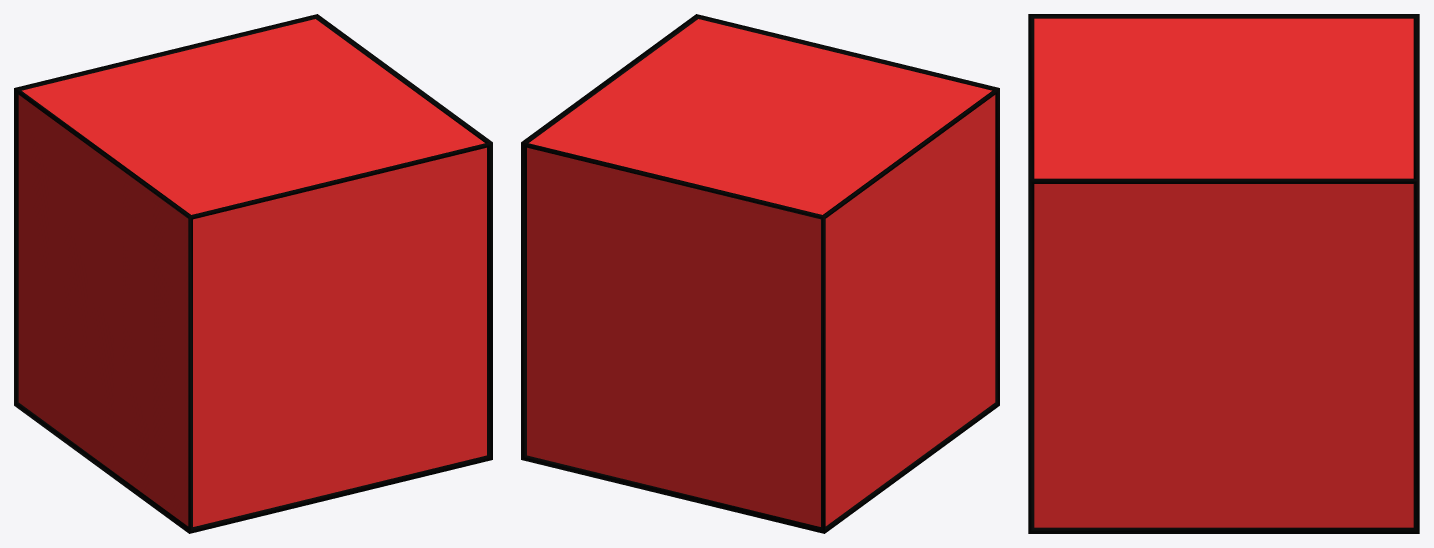
File: cube_red.obj
The picture shows the model from 3 angles, left to right: view 1: azimuth 30°, elevation 25°; view 2: azimuth 150°, elevation 25°; view 3: azimuth 270°, elevation 25°; orthographic projection. The views are drawn at different scales.
Parts seen in each view (by area): view 1: Cube_red, Cube_green; view 2: Cube_red, Cube_green; view 3: Cube_red, Cube_green.
Part boxes in pixels (box(x1,y1,x2,y2)): Cube_red: box(18, 19, 486, 526); Cube_green: box(14, 14, 492, 533); Cube_red: box(527, 19, 995, 526); Cube_green: box(521, 14, 999, 533); Cube_red: box(1034, 18, 1413, 527); Cube_green: box(1028, 14, 1419, 533).
Size of the model in its own units: 0.0506 by 0.0506 by 0.0506.
